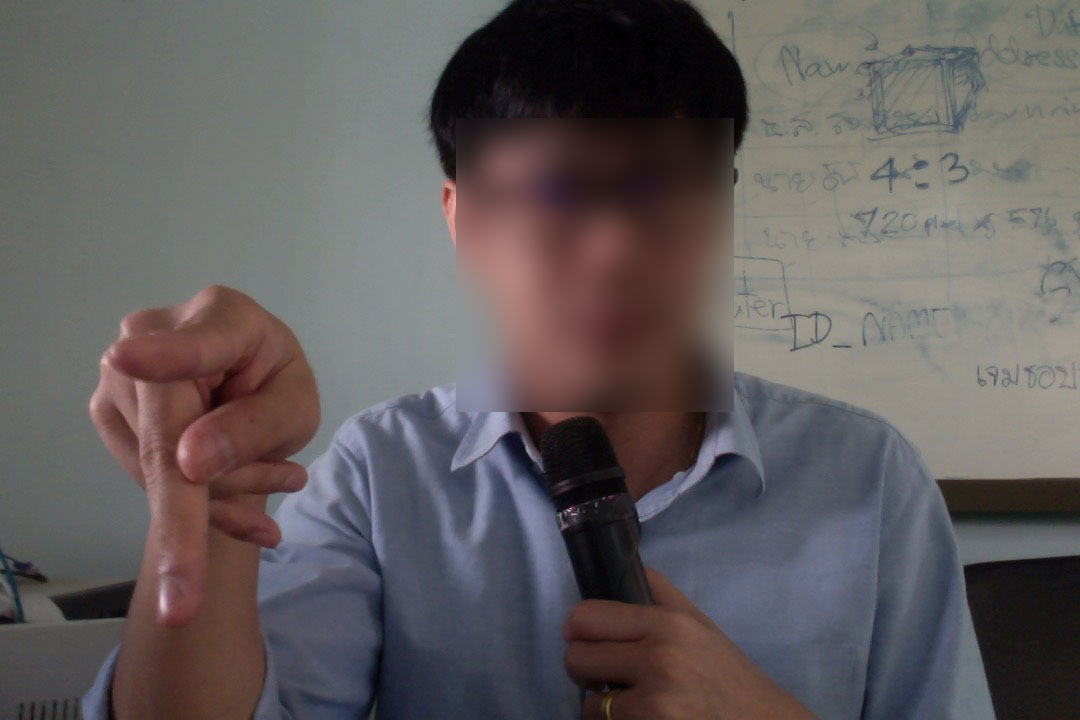por: (83, 281, 330, 633)
